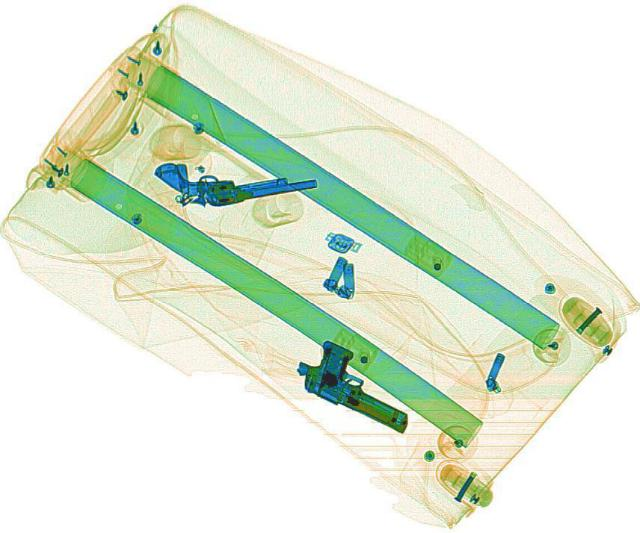Gun: (284, 334, 438, 435), (150, 140, 318, 213)
